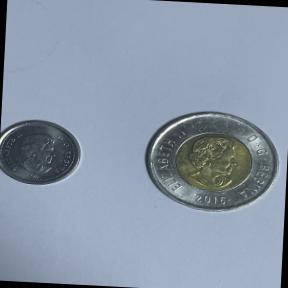Canada-10cent-B: (0, 112, 88, 193)
Canada-2Dollar-B: (126, 99, 288, 228)
